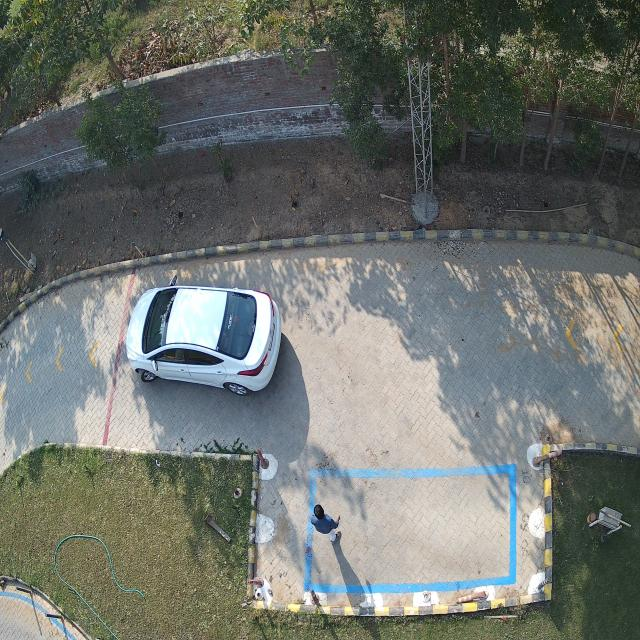car: (125, 277, 281, 395)
